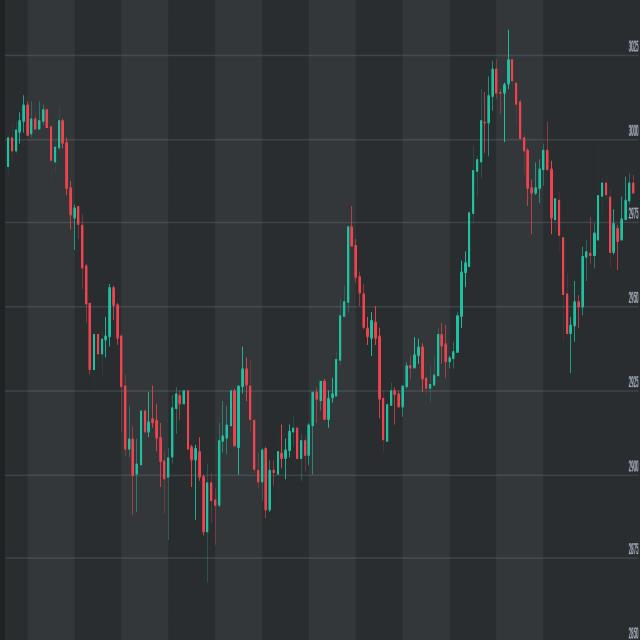Resistance-breakout: (200, 212, 389, 540)
Support-breakout: (10, 82, 129, 386)
